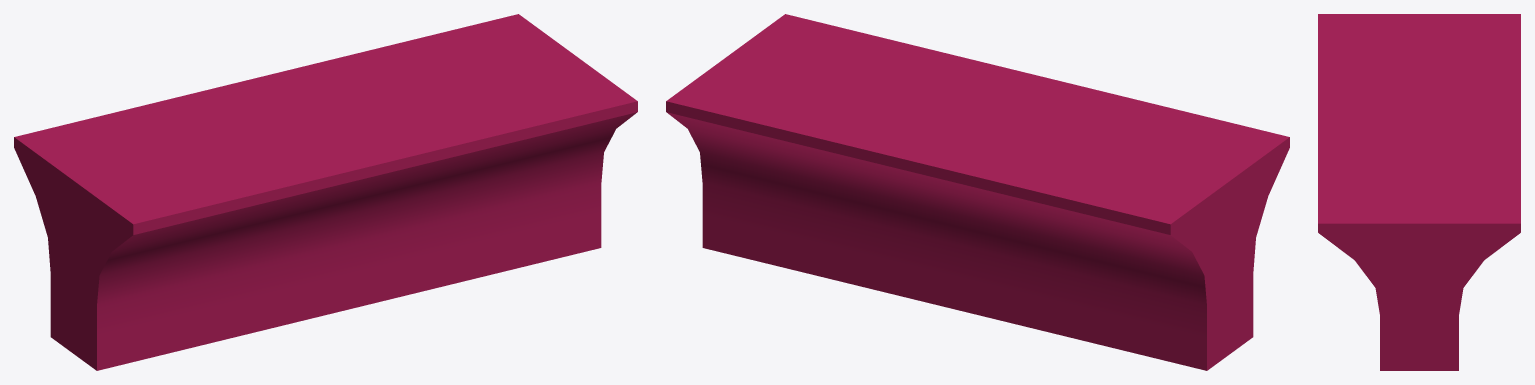
Rendered from Mesa TV.FBX.
3 views of the same model, side by side, from view 1: azimuth 30°, elevation 25°; view 2: azimuth 150°, elevation 25°; view 3: azimuth 270°, elevation 25° (orthographic). The views are drawn at different scales.
Parts seen in each view (by area): view 1: Mueble 2; view 2: Mueble 2; view 3: Mueble 2.
Boxes of the visible parts, box(x1,y1,x2,y2) form: Mueble 2: box(14, 14, 637, 370); Mueble 2: box(666, 14, 1289, 370); Mueble 2: box(1318, 14, 1520, 370).
Size of the model in its own units: 1.95 by 0.64 by 0.798.
